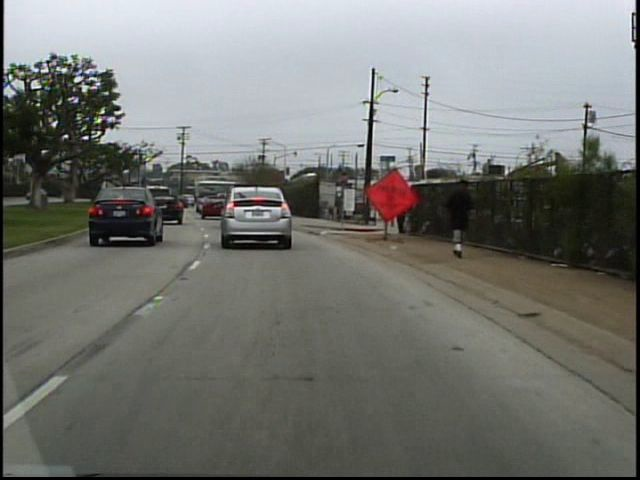person: (439, 173, 476, 263)
